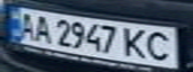2: (51, 16, 72, 47)
4: (84, 20, 103, 53)
7: (100, 24, 121, 55)
9: (66, 19, 87, 51)
A: (12, 9, 39, 40), (30, 12, 54, 44)
C: (142, 29, 181, 63)
K: (121, 26, 151, 60)
